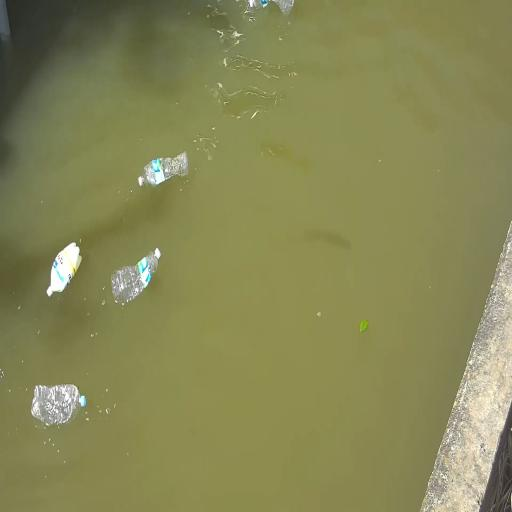plastic: (111, 248, 161, 304), (31, 384, 86, 426), (47, 242, 81, 296), (139, 152, 188, 186), (248, 0, 295, 17)
